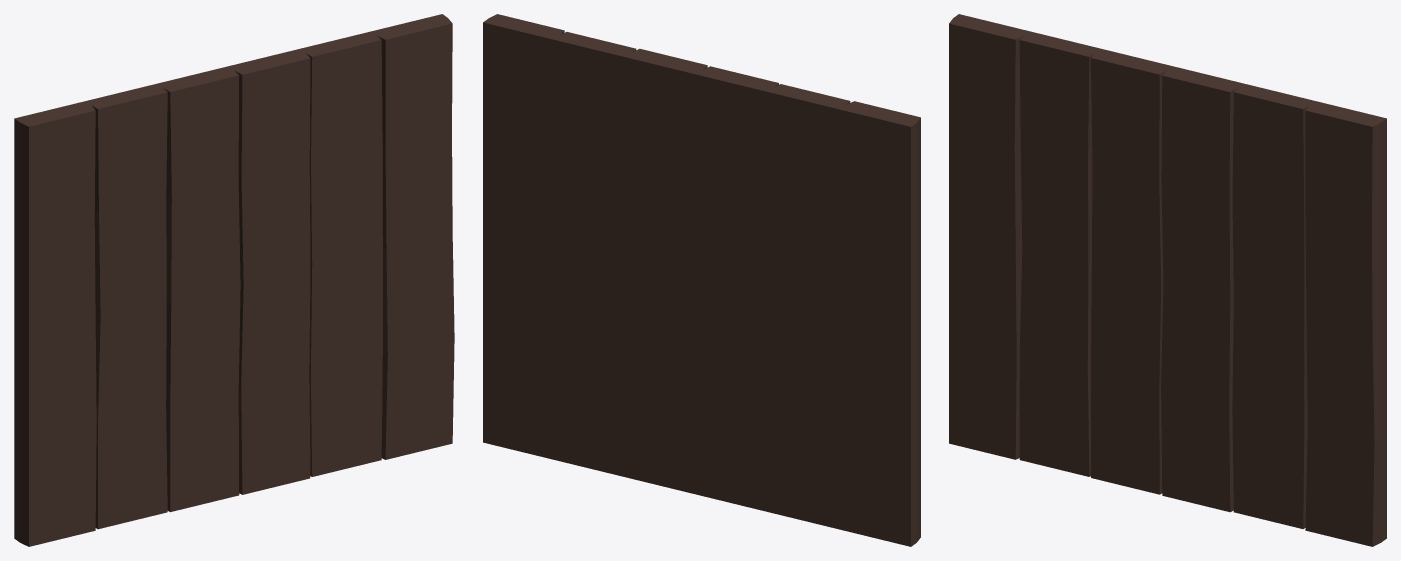
The model's file is WallHalf.fbx.
3 views of the same model, side by side, from view 1: azimuth 30°, elevation 25°; view 2: azimuth 150°, elevation 25°; view 3: azimuth 330°, elevation 25° (orthographic).
Parts seen in each view (by area): view 1: HalfWall; view 2: HalfWall; view 3: HalfWall.
Boxes of the visible parts, left/top/right/bottom form: HalfWall: left=14, top=14, right=454, bottom=546; HalfWall: left=483, top=14, right=920, bottom=546; HalfWall: left=949, top=14, right=1386, bottom=546.
Size of the model in its own units: 6 by 5.63 by 0.2996.
